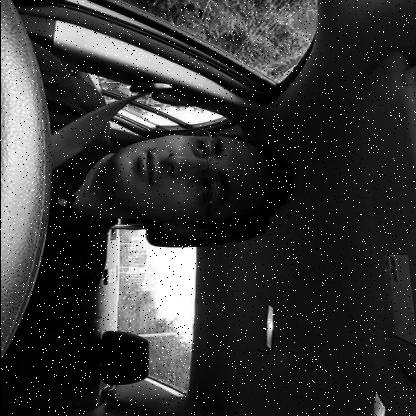seatbelt: (0, 78, 297, 249)
